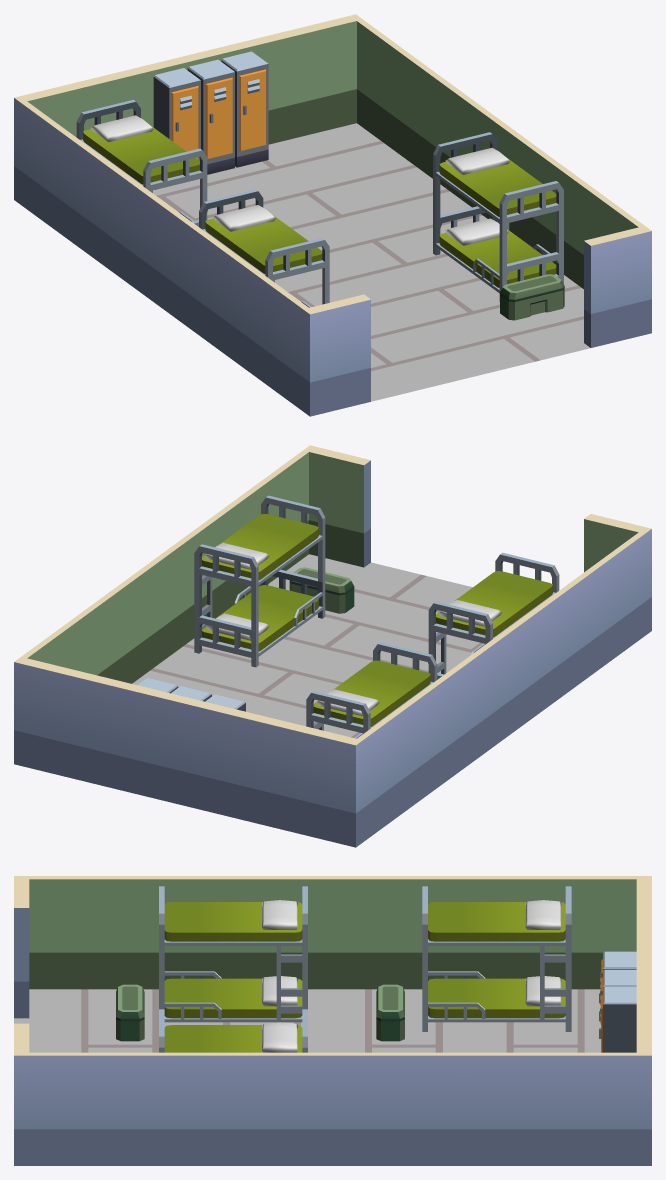
The model's file is Barrack_Lv2_a.fbx.
The picture shows the model from 3 angles, top to bottom: view 1: azimuth 30°, elevation 25°; view 2: azimuth 150°, elevation 25°; view 3: azimuth 270°, elevation 25°; orthographic projection. The views are drawn at different scales.
Parts seen in each view (by area): view 1: unit126, wall_half13, wall_half12, wall43, Bed3, wall45, wall44, Bed2, Bed1, locket8, locket7, locket9 (+1 smaller); view 2: wall43, wall_half13, unit126, wall_half12, Bed3, Bed2, Bed1, wall44, wall45, big_chest4; view 3: wall_half12, wall_half13, unit126, Bed1, Bed2, wall43, Bed3, locket8, wall45, wall44, big_chest1, big_chest3 (+2 smaller).
Boxes of the visible parts, x1=… form: unit126: x1=153, y1=123, x2=590, y2=401; wall_half13: x1=14, y1=96, x2=308, y2=410; wall_half12: x1=350, y1=15, x2=646, y2=288; wall43: x1=14, y1=14, x2=362, y2=201; Bed3: x1=433, y1=132, x2=563, y2=301; wall45: x1=303, y1=294, x2=370, y2=416; wall44: x1=584, y1=227, x2=651, y2=347; Bed2: x1=199, y1=189, x2=329, y2=307; Bed1: x1=76, y1=99, x2=207, y2=226; locket8: x1=221, y1=51, x2=268, y2=167; locket7: x1=187, y1=59, x2=234, y2=174; locket9: x1=153, y1=68, x2=200, y2=160; wall43: x1=14, y1=657, x2=362, y2=845; wall_half13: x1=349, y1=530, x2=646, y2=847; unit126: x1=132, y1=554, x2=482, y2=737; wall_half12: x1=20, y1=448, x2=311, y2=683; Bed3: x1=194, y1=495, x2=325, y2=667; Bed2: x1=428, y1=552, x2=559, y2=679; Bed1: x1=306, y1=642, x2=437, y2=738; wall44: x1=306, y1=445, x2=370, y2=567; wall45: x1=584, y1=514, x2=651, y2=635; big_chest4: x1=289, y1=567, x2=354, y2=613; wall_half12: x1=23, y1=1052, x2=651, y2=1165; wall_half13: x1=23, y1=876, x2=651, y2=989; unit126: x1=14, y1=989, x2=601, y2=1052; Bed1: x1=422, y1=886, x2=571, y2=1031; Bed2: x1=159, y1=886, x2=307, y2=1022; wall43: x1=636, y1=876, x2=651, y2=1165; Bed3: x1=159, y1=1009, x2=307, y2=1052; locket8: x1=599, y1=987, x2=636, y2=1052; wall45: x1=14, y1=876, x2=29, y2=1018; wall44: x1=14, y1=1023, x2=29, y2=1165; big_chest1: x1=116, y1=984, x2=144, y2=1041; big_chest3: x1=376, y1=984, x2=404, y2=1041.
Bounding box in the file's own units: 700 × 212 × 1050.
